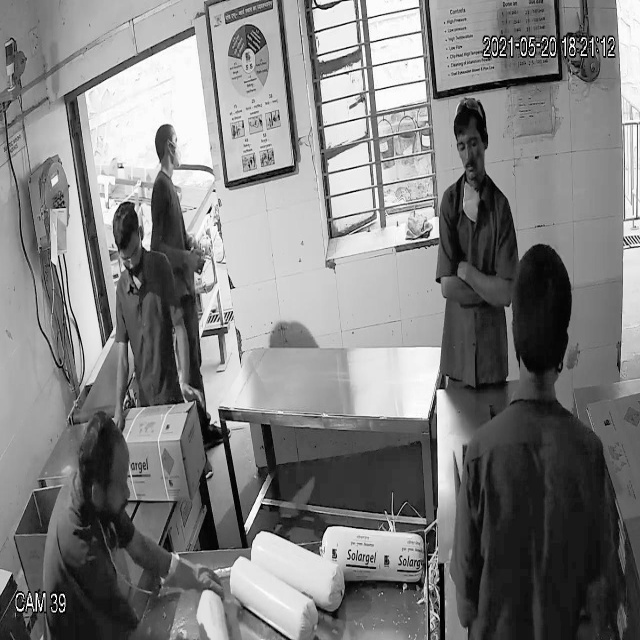Gafas: (116, 242, 144, 271)
Sin_gafas: (453, 133, 488, 155)
